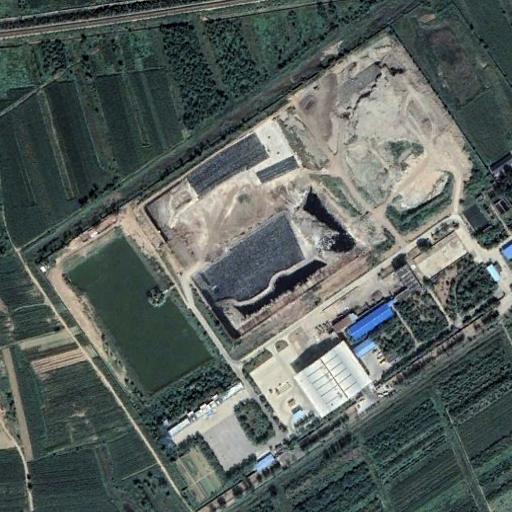lf: (138, 119, 372, 339)
